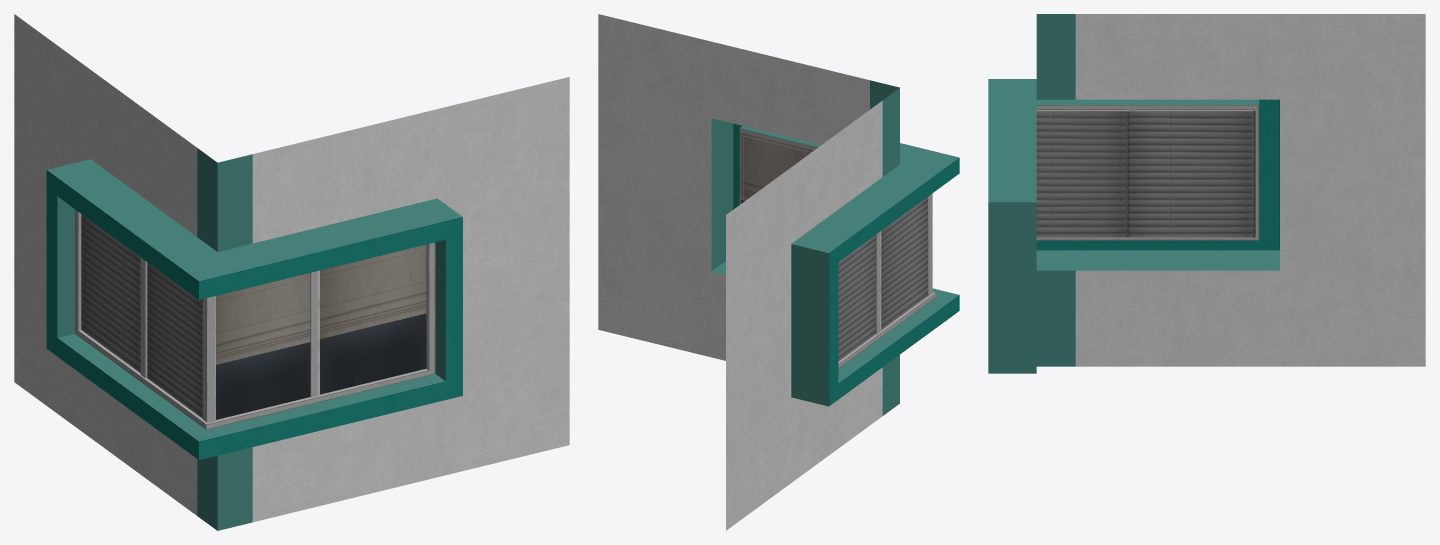
File: MB_Wall_Window_A_14.fbx
The picture shows the model from 3 angles, left to right: view 1: azimuth 30°, elevation 25°; view 2: azimuth 150°, elevation 25°; view 3: azimuth 270°, elevation 25°; orthographic projection. The views are drawn at different scales.
Parts seen in each view (by area): view 1: MB_Wall_Window_A_14; view 2: MB_Wall_Window_A_14; view 3: MB_Wall_Window_A_14.
Part boxes in pixels (x1,y1,x2,y2): MB_Wall_Window_A_14: (14, 14, 569, 530); MB_Wall_Window_A_14: (598, 14, 959, 530); MB_Wall_Window_A_14: (988, 14, 1425, 373).
Bounding box in the file's own units: 450 × 400 × 450.
